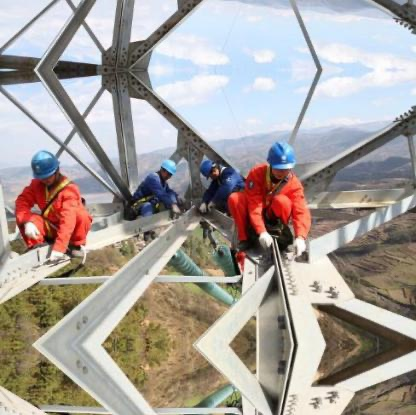Safety Helmet: (260, 135, 302, 181), (27, 147, 67, 190), (156, 155, 182, 185), (197, 154, 221, 182)
